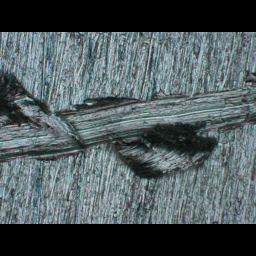d: (0, 66, 255, 183)
